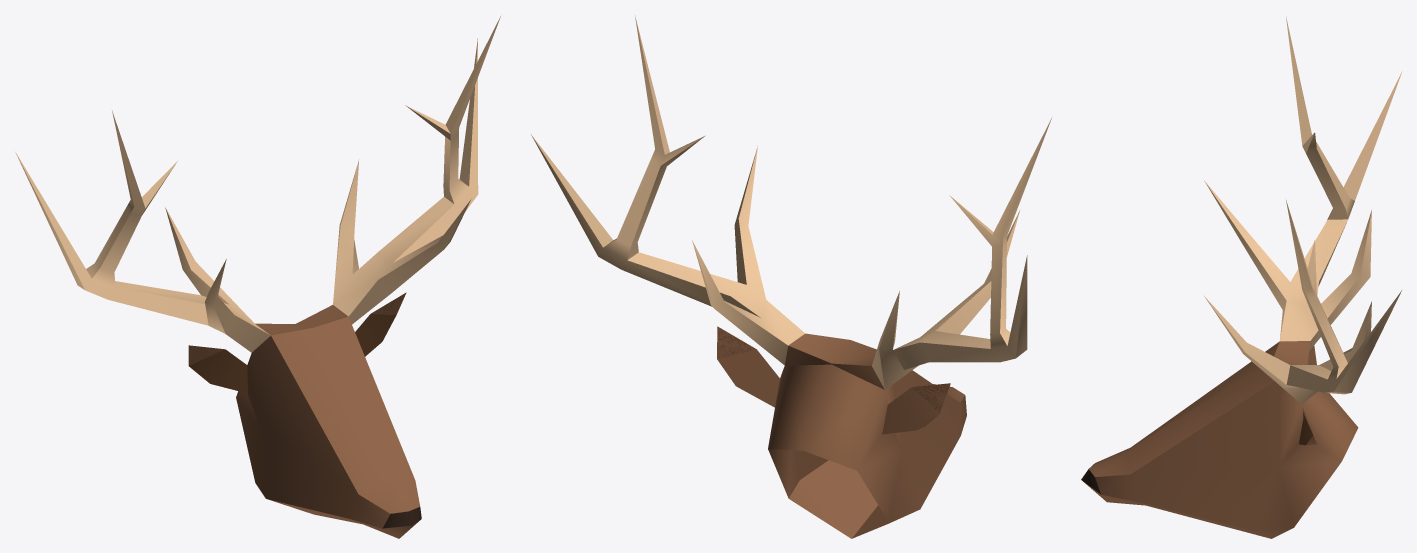
Rendered from beer.glb.
3 views of the same model, side by side, from view 1: azimuth 30°, elevation 25°; view 2: azimuth 150°, elevation 25°; view 3: azimuth 270°, elevation 25° (orthographic). The views are drawn at different scales.
Visible parts, largest first — view 1: Deer-ver2; view 2: Deer-ver2; view 3: Deer-ver2.
Part boxes in pixels (box(x1,y1,x2,y2)): Deer-ver2: box(15, 16, 500, 538); Deer-ver2: box(531, 15, 1051, 538); Deer-ver2: box(1081, 16, 1402, 538).
Bounding box in the file's own units: 0.8518 × 0.7856 × 0.5293.
Materials: 1 (1 with a texture image).
